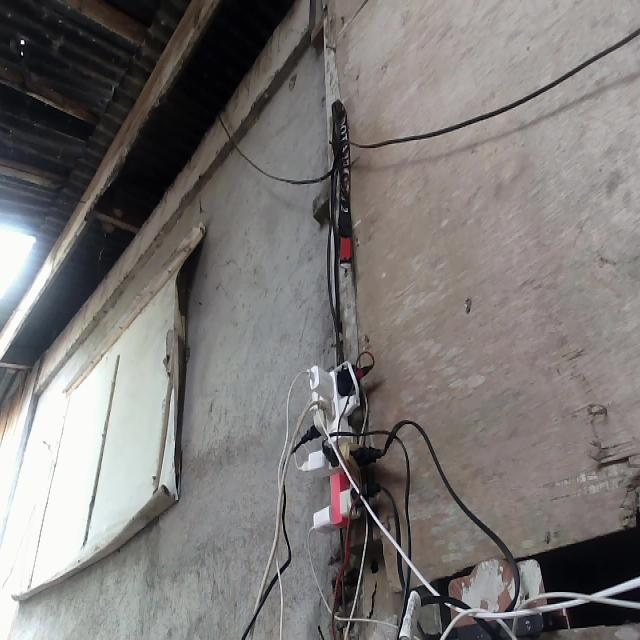-: (293, 358, 381, 534)
